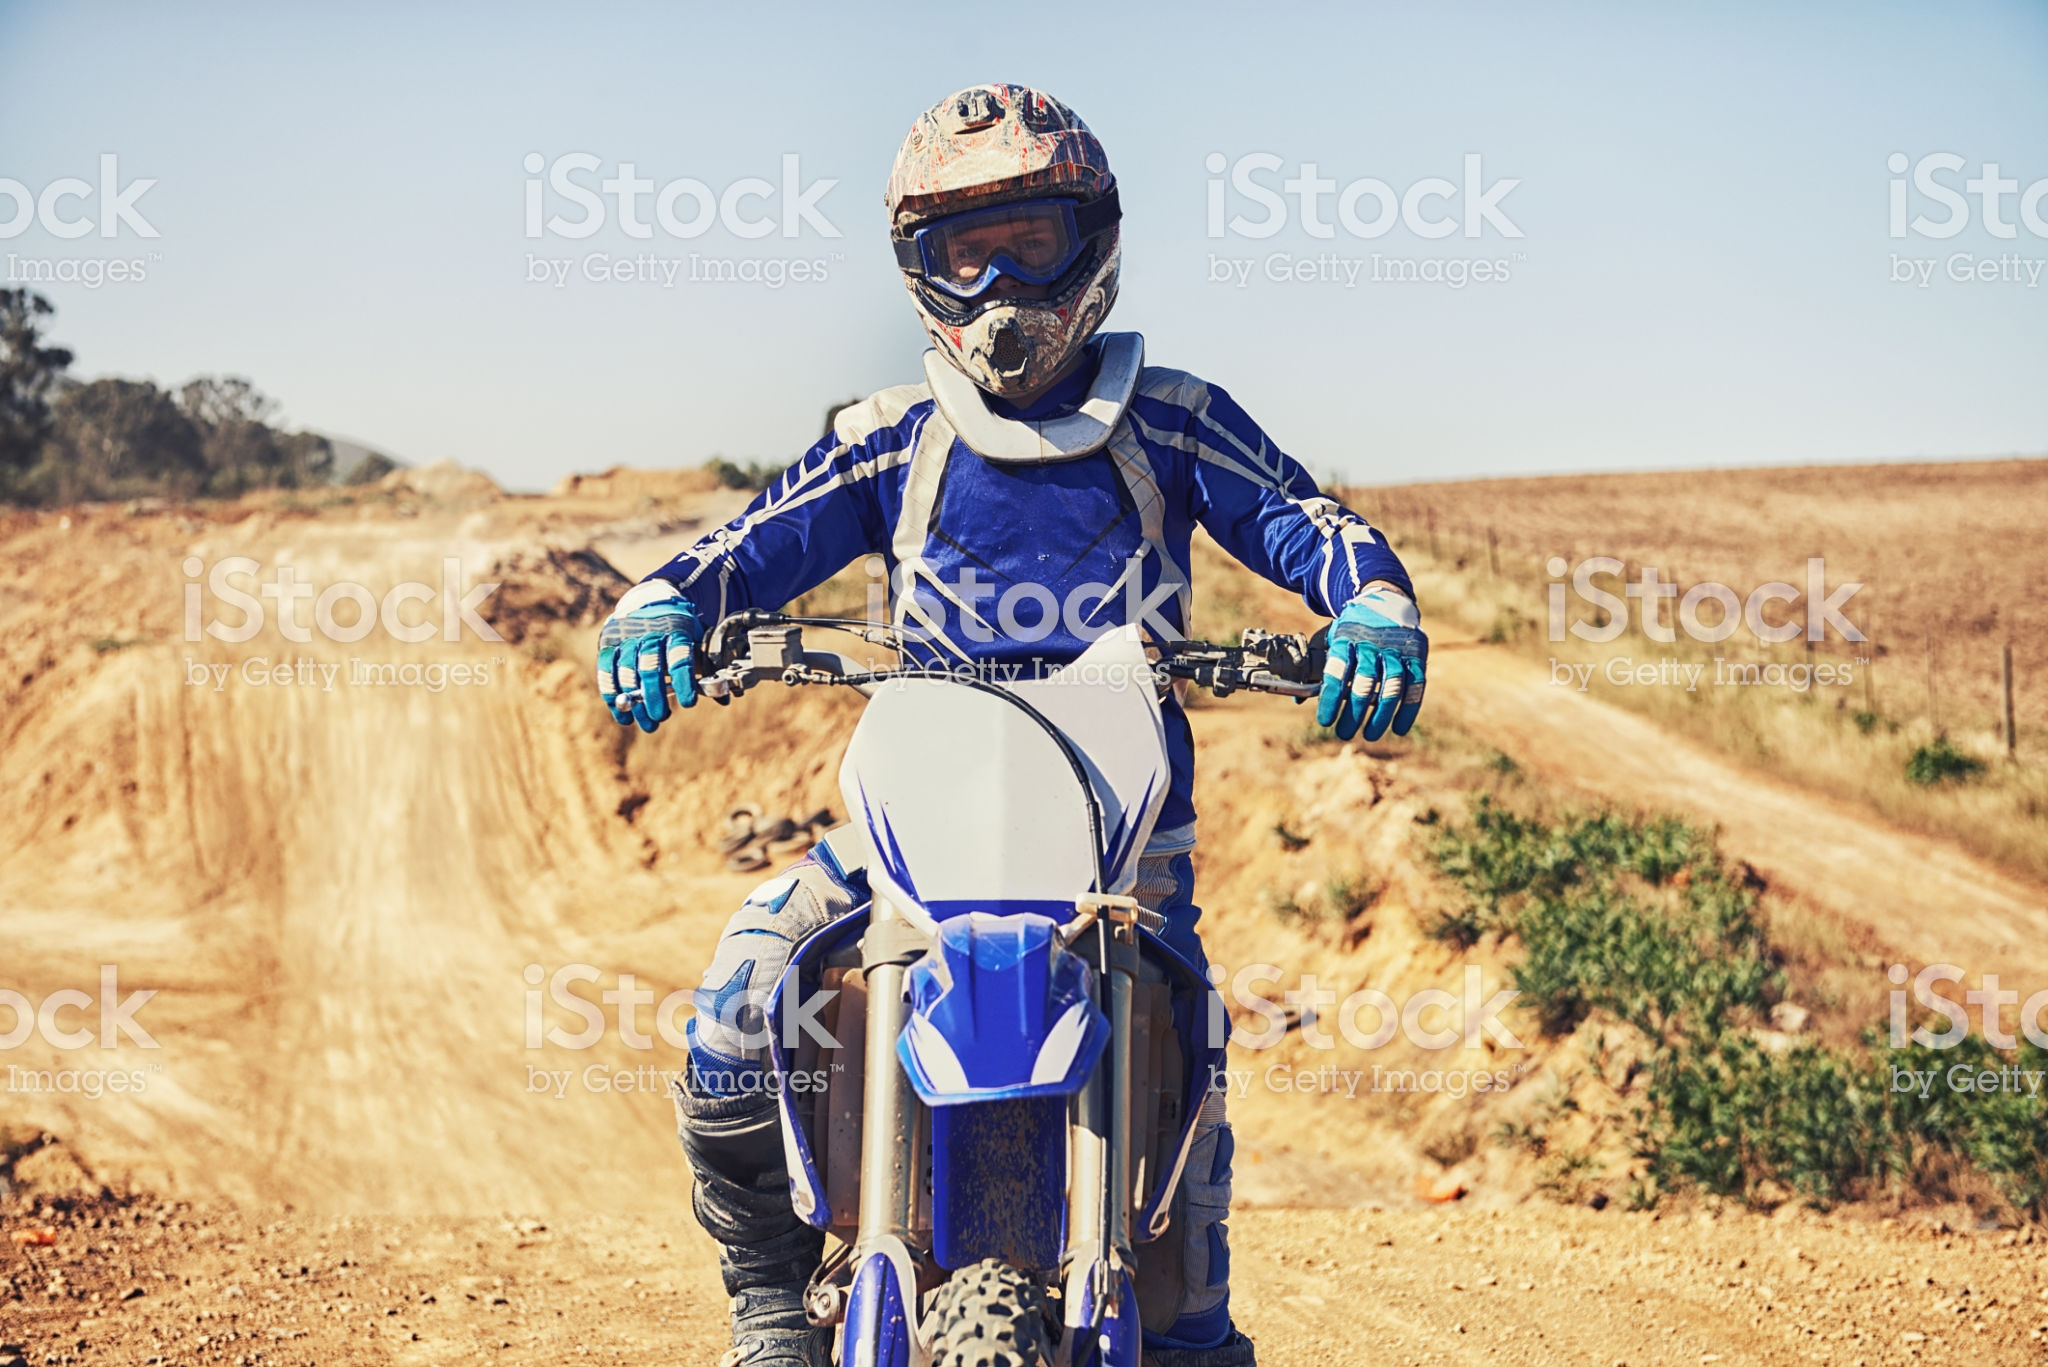helmet: (884, 55, 1128, 403)
